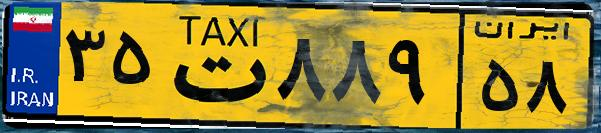3: (57, 26, 110, 100)
5: (475, 38, 525, 113), (110, 28, 158, 98)
8: (270, 28, 330, 110), (330, 28, 385, 110), (525, 38, 570, 115)
9: (385, 28, 445, 110)
ت: (158, 12, 270, 120)
